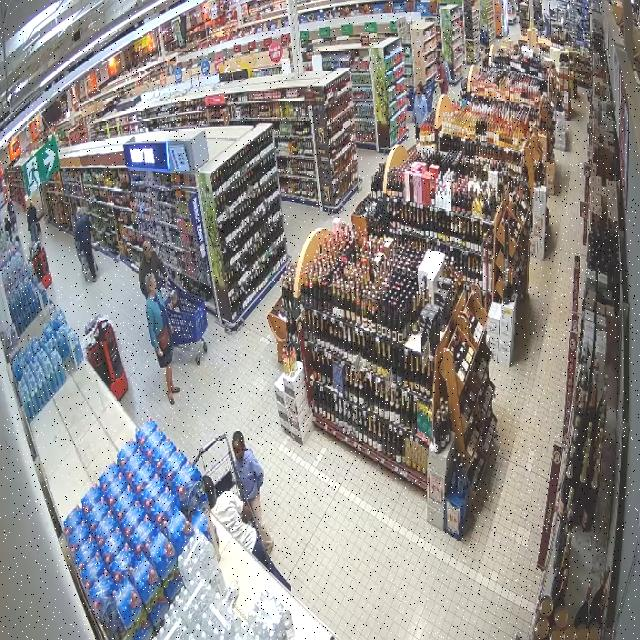bags: (157, 325, 171, 350)
hands: (156, 349, 163, 356), (170, 325, 174, 335), (165, 276, 169, 282)
person: (204, 476, 290, 589), (232, 430, 273, 553), (145, 272, 179, 404), (139, 239, 170, 294)
